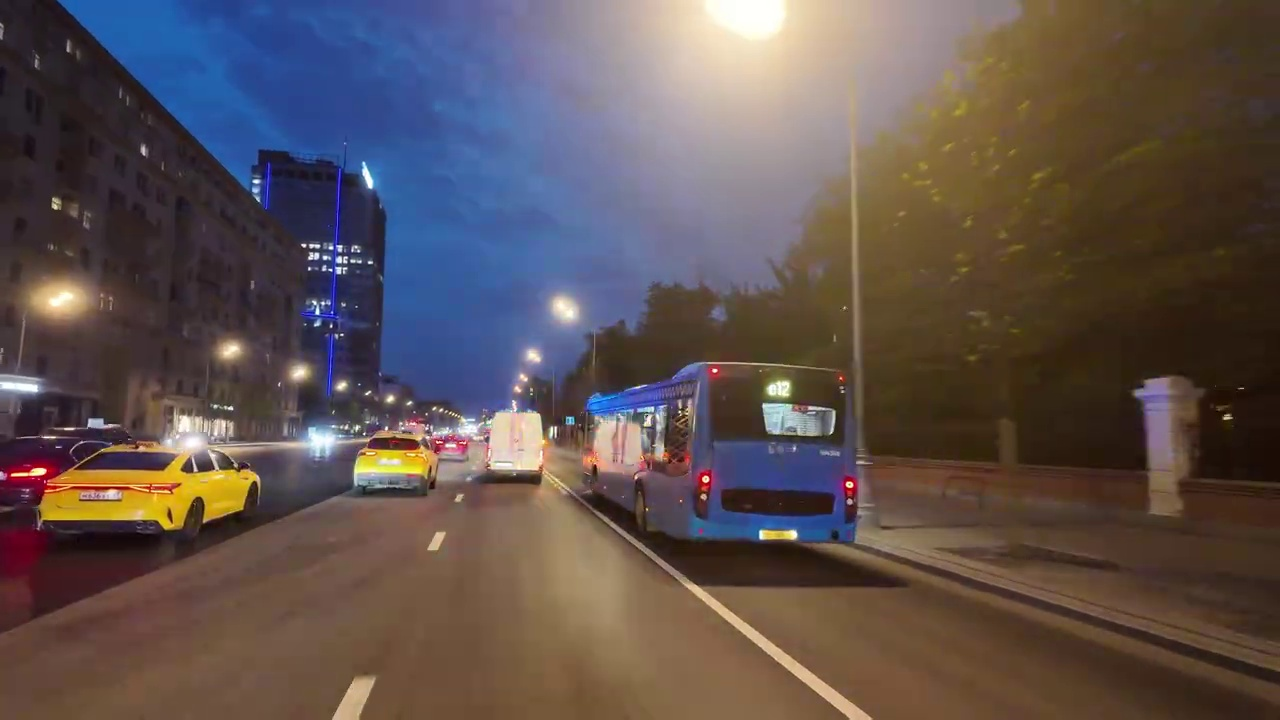acesa: (691, 0, 797, 50), (34, 283, 83, 320), (550, 294, 581, 324), (214, 337, 245, 364), (285, 360, 313, 386), (522, 346, 544, 366)
